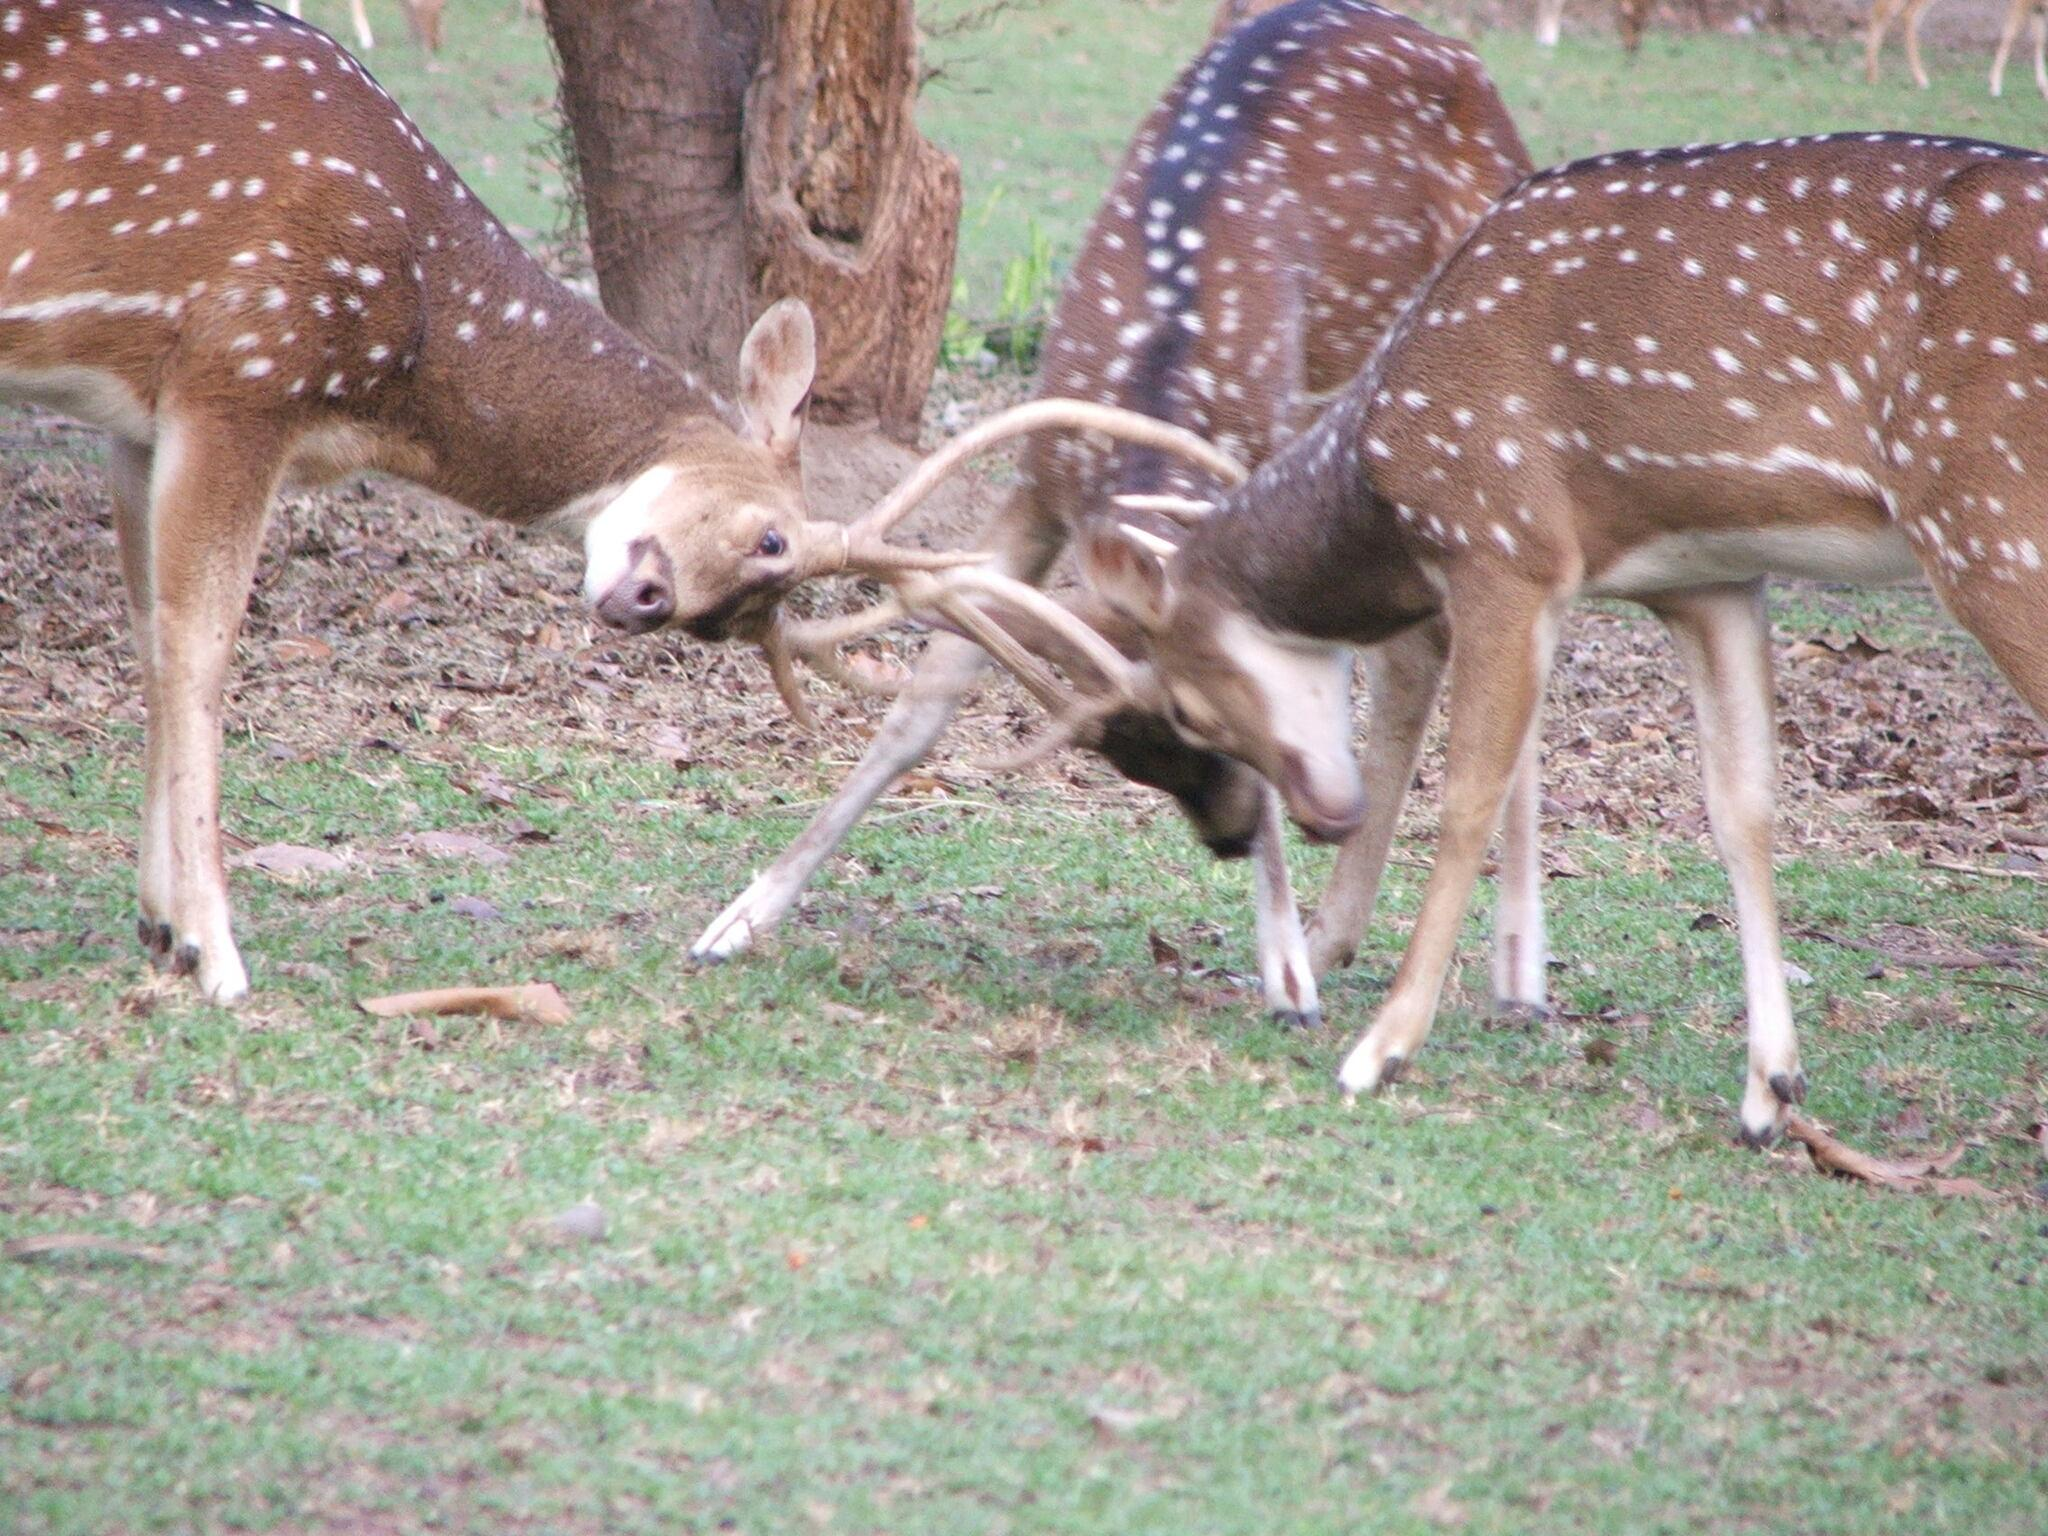Deer: (1087, 132, 2046, 1139), (0, 0, 832, 1000)
